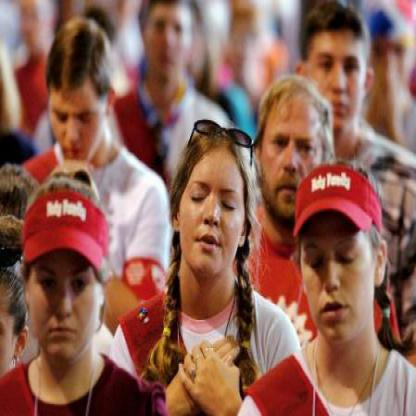face: (299, 166, 377, 343), (27, 186, 104, 364), (260, 77, 328, 228), (180, 131, 248, 280), (305, 1, 370, 132), (51, 37, 106, 170), (144, 1, 193, 87), (222, 1, 268, 84), (371, 11, 414, 99), (22, 1, 54, 53)
